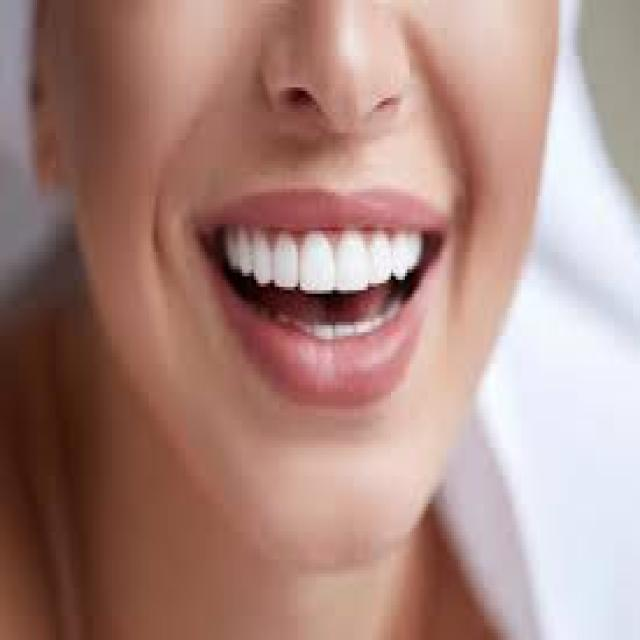tooth: (331, 238, 363, 283), (300, 231, 326, 280), (363, 231, 384, 280), (270, 245, 296, 283), (254, 224, 270, 280), (409, 217, 426, 266), (389, 224, 407, 266), (238, 224, 252, 269)
